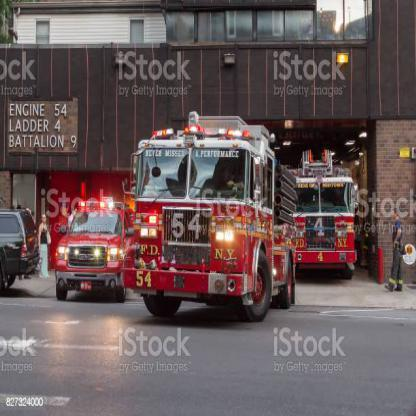fire-truck: (59, 52, 406, 359)
